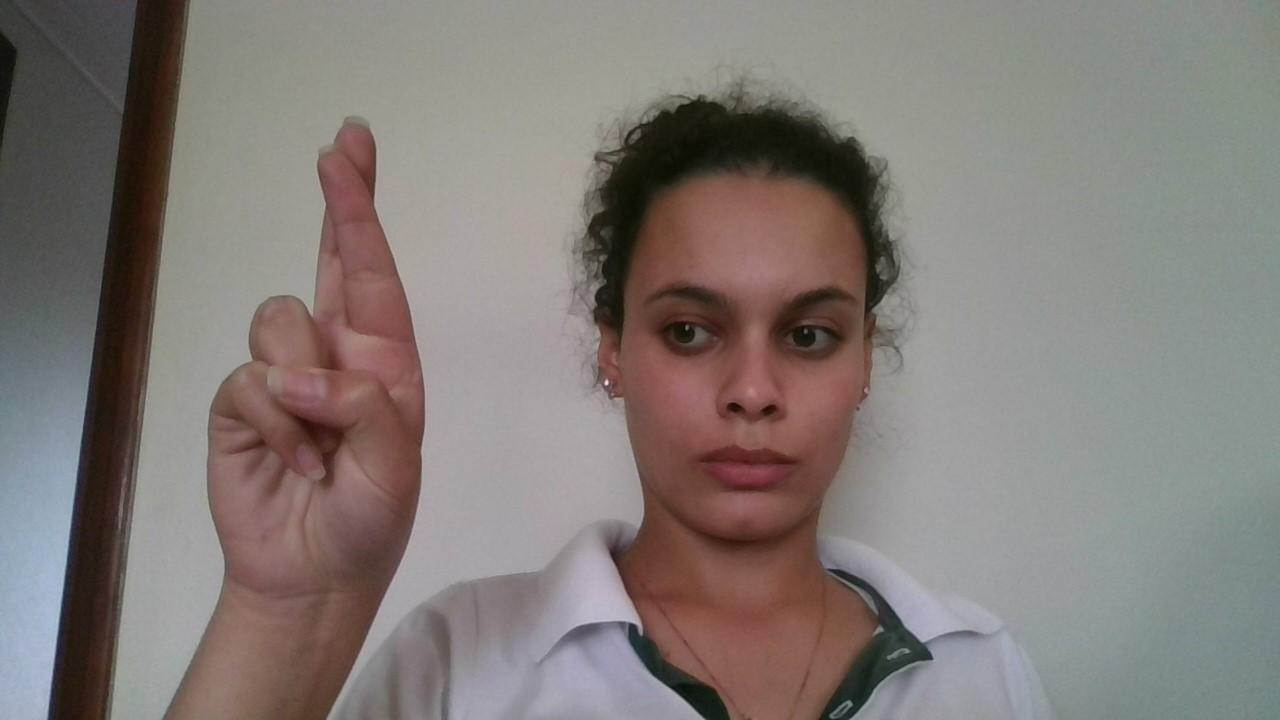R: (206, 104, 436, 590)
